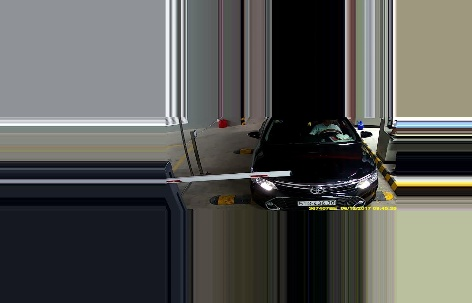plate: (296, 197, 336, 206)
